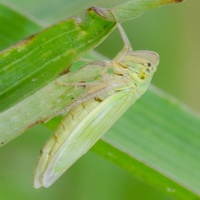insect: (34, 10, 158, 187)
